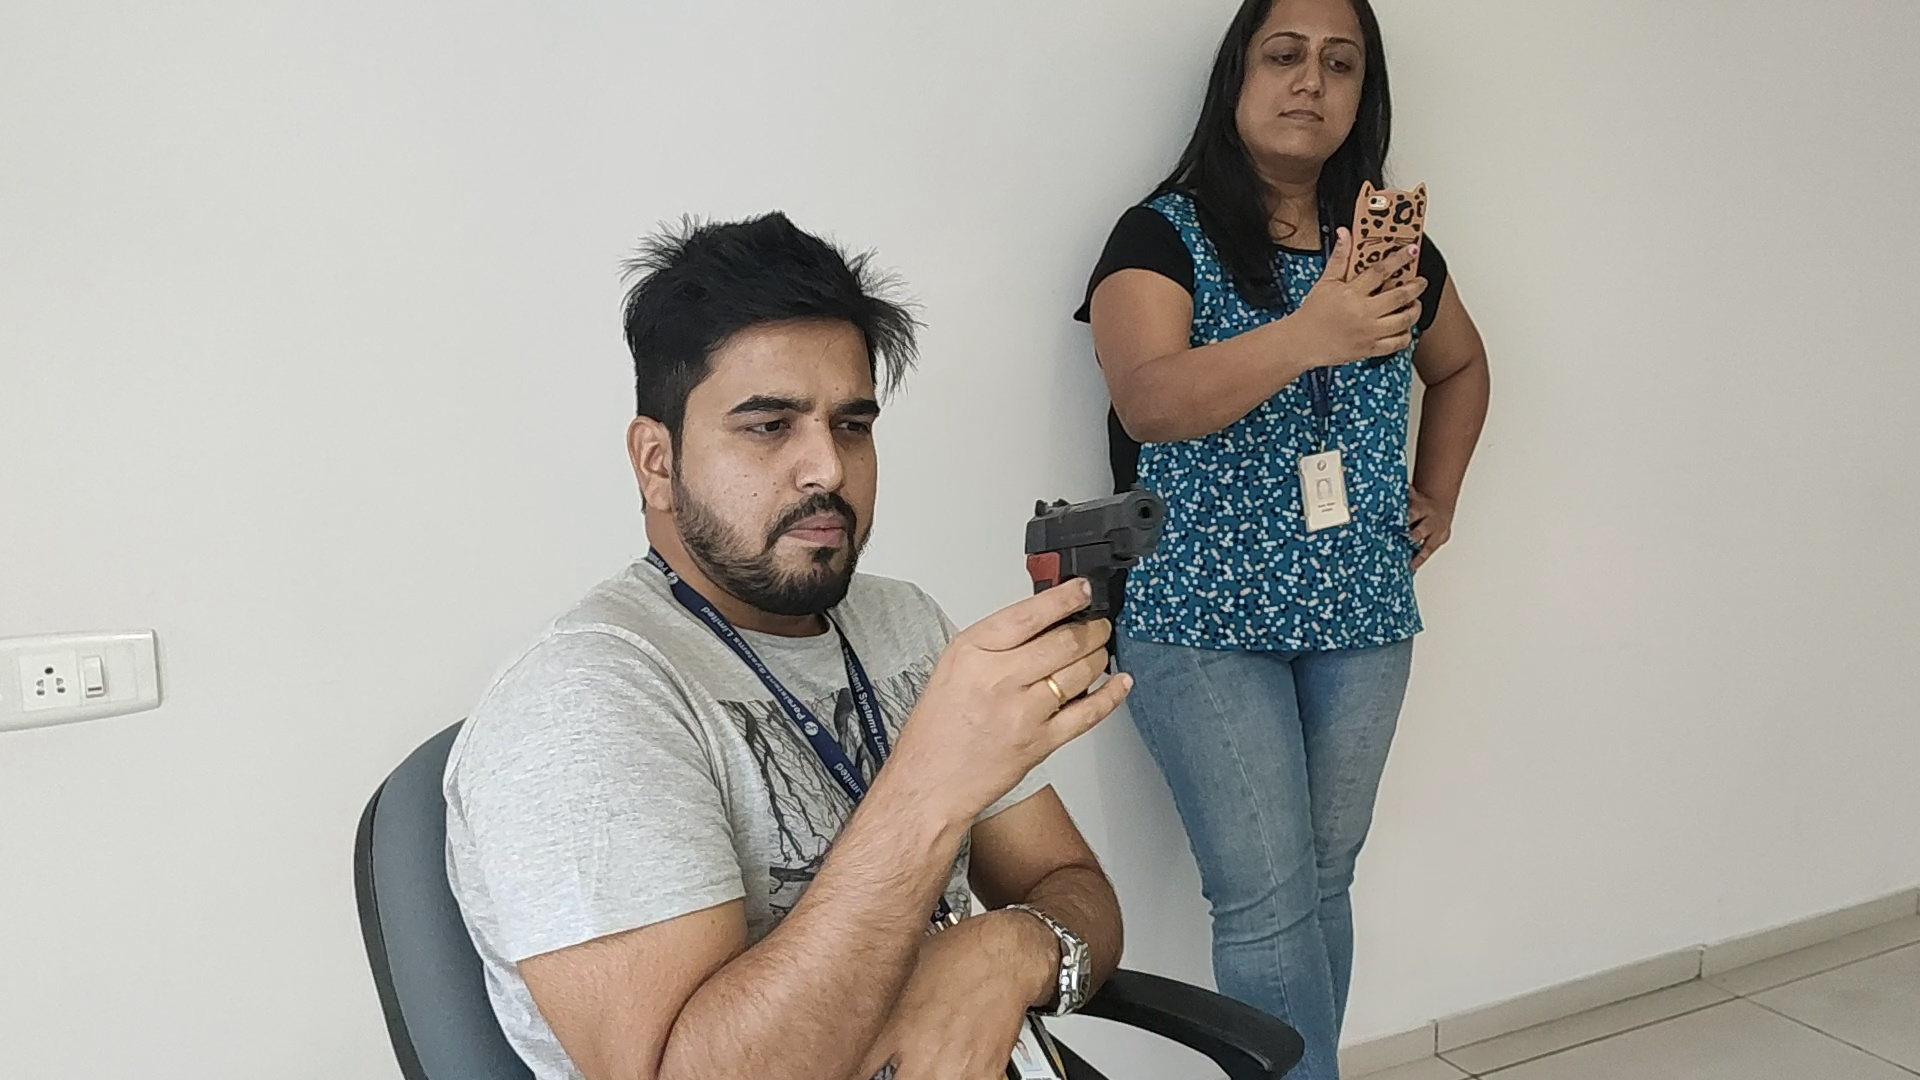gun: (1025, 484, 1166, 576)
